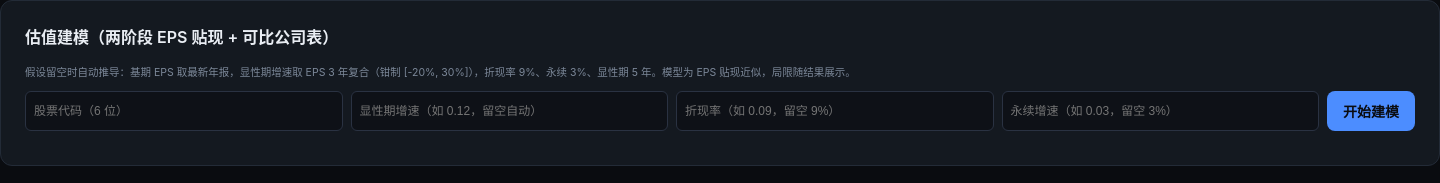
Test: ValuationPanel —— 表单与入参校验 › 计算中：按钮变「计算中…」且禁用（防重复提交）
The image size is (1440, 183).
Step 1. Type "600519" into the field named "待估值的股票代码（6 位数字）" → (184, 111), box [25,91,342,131]
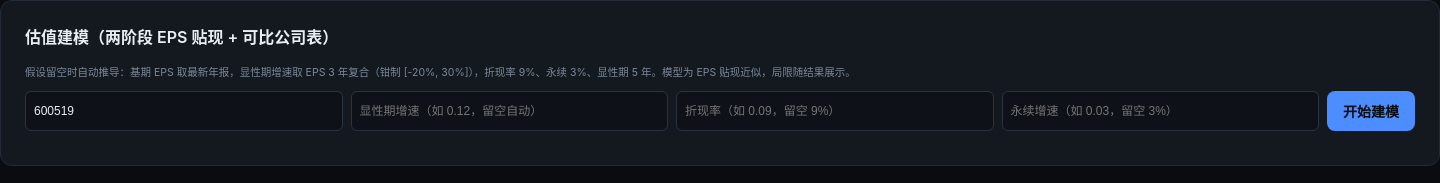
Step 2. Click the button "开始建模" → (1371, 111), box [1327,91,1415,131]
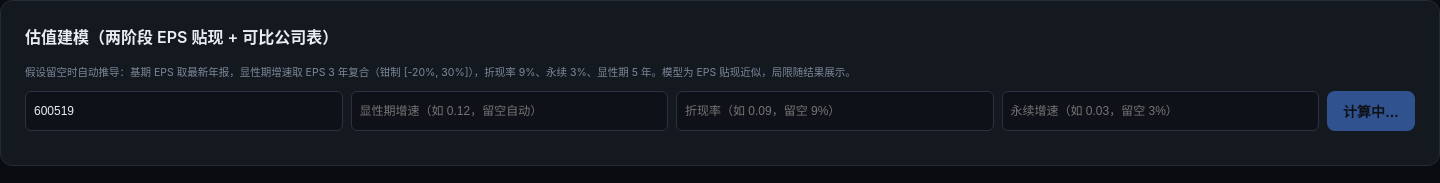
Now the button "计算中…" is disabled, box [1327,91,1415,131]
